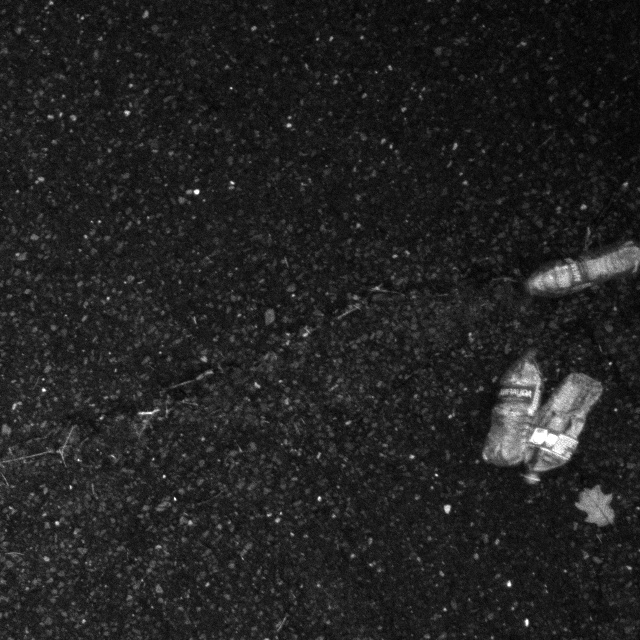bottle: (519, 366, 605, 490), (519, 228, 640, 314), (474, 349, 553, 480)
